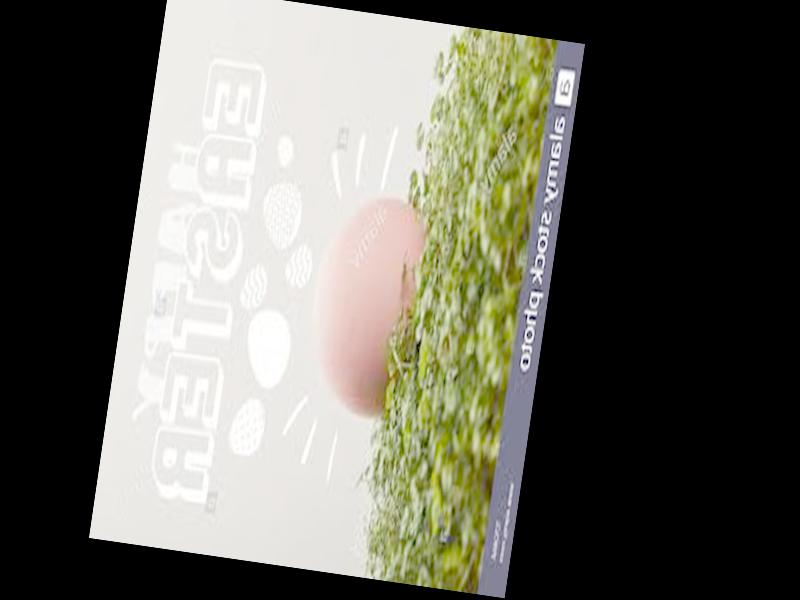Eggs: (299, 193, 430, 426)
